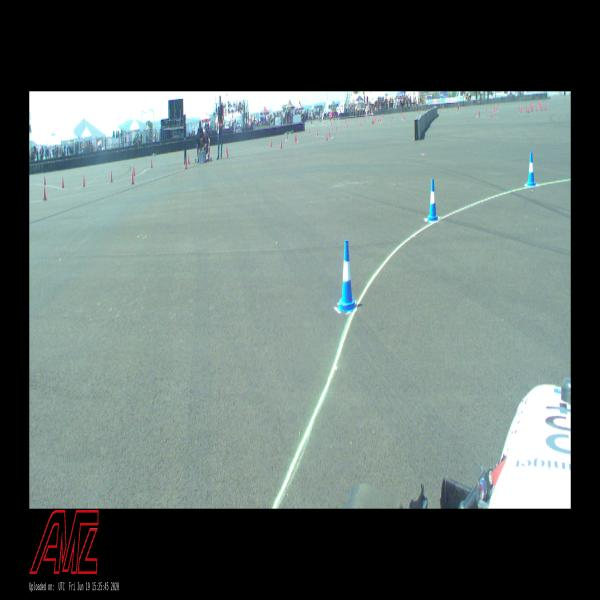blue_cone: (338, 240, 357, 312), (428, 179, 438, 221), (527, 152, 536, 186)
